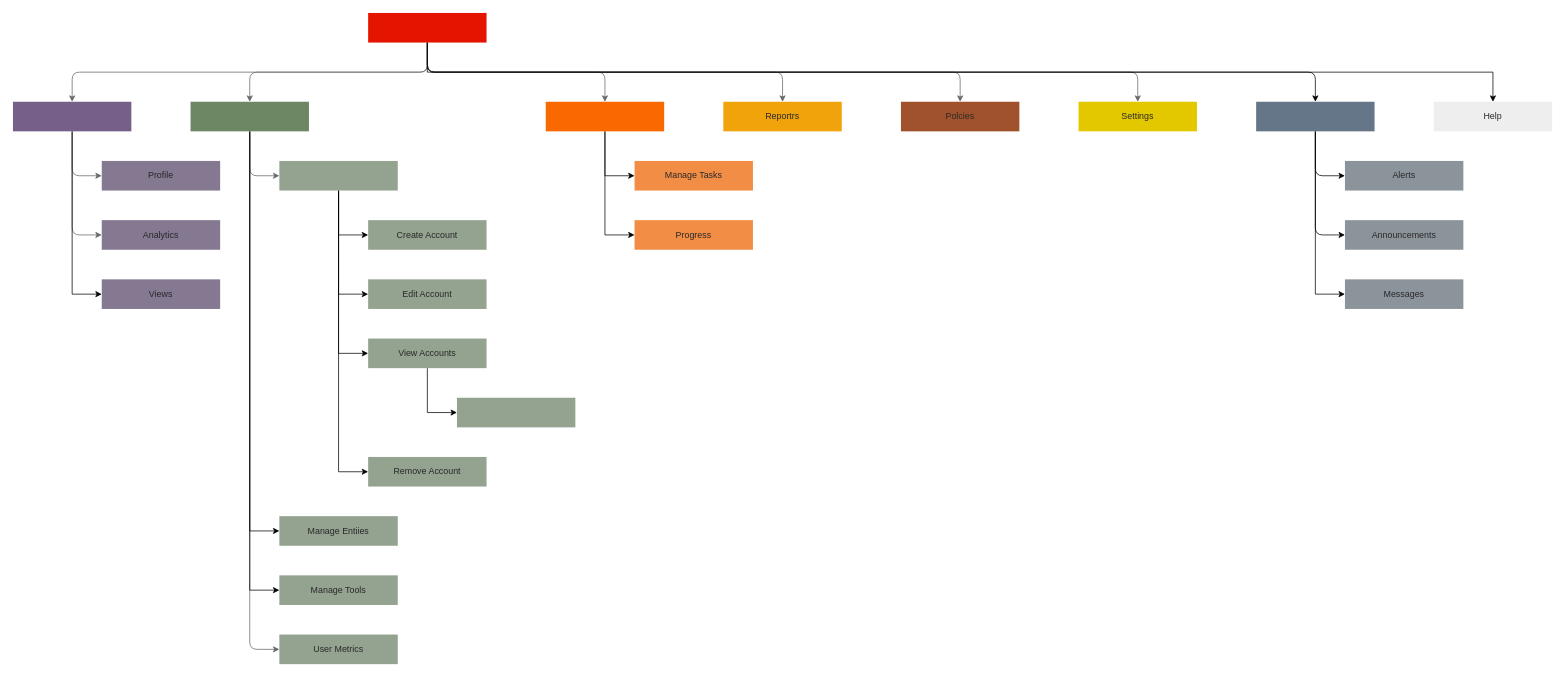
The diagram is 1564 pixels wide and 676 high, and some of its shapes have lost their labels. The shapes that lost their labels are listed below. From the top down, each one's centre as x and y in pixels, then its label:
point (427, 27): index
point (72, 116): Dashboard
point (249, 116): Administration
point (604, 116): Tasks
point (1315, 116): Notifications
point (338, 175): Manage Accounts
point (516, 412): Search Accounts
